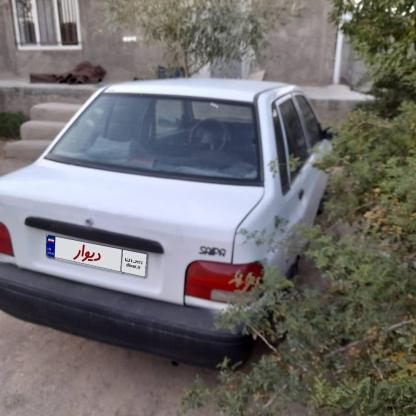Car: (0, 76, 323, 369)
